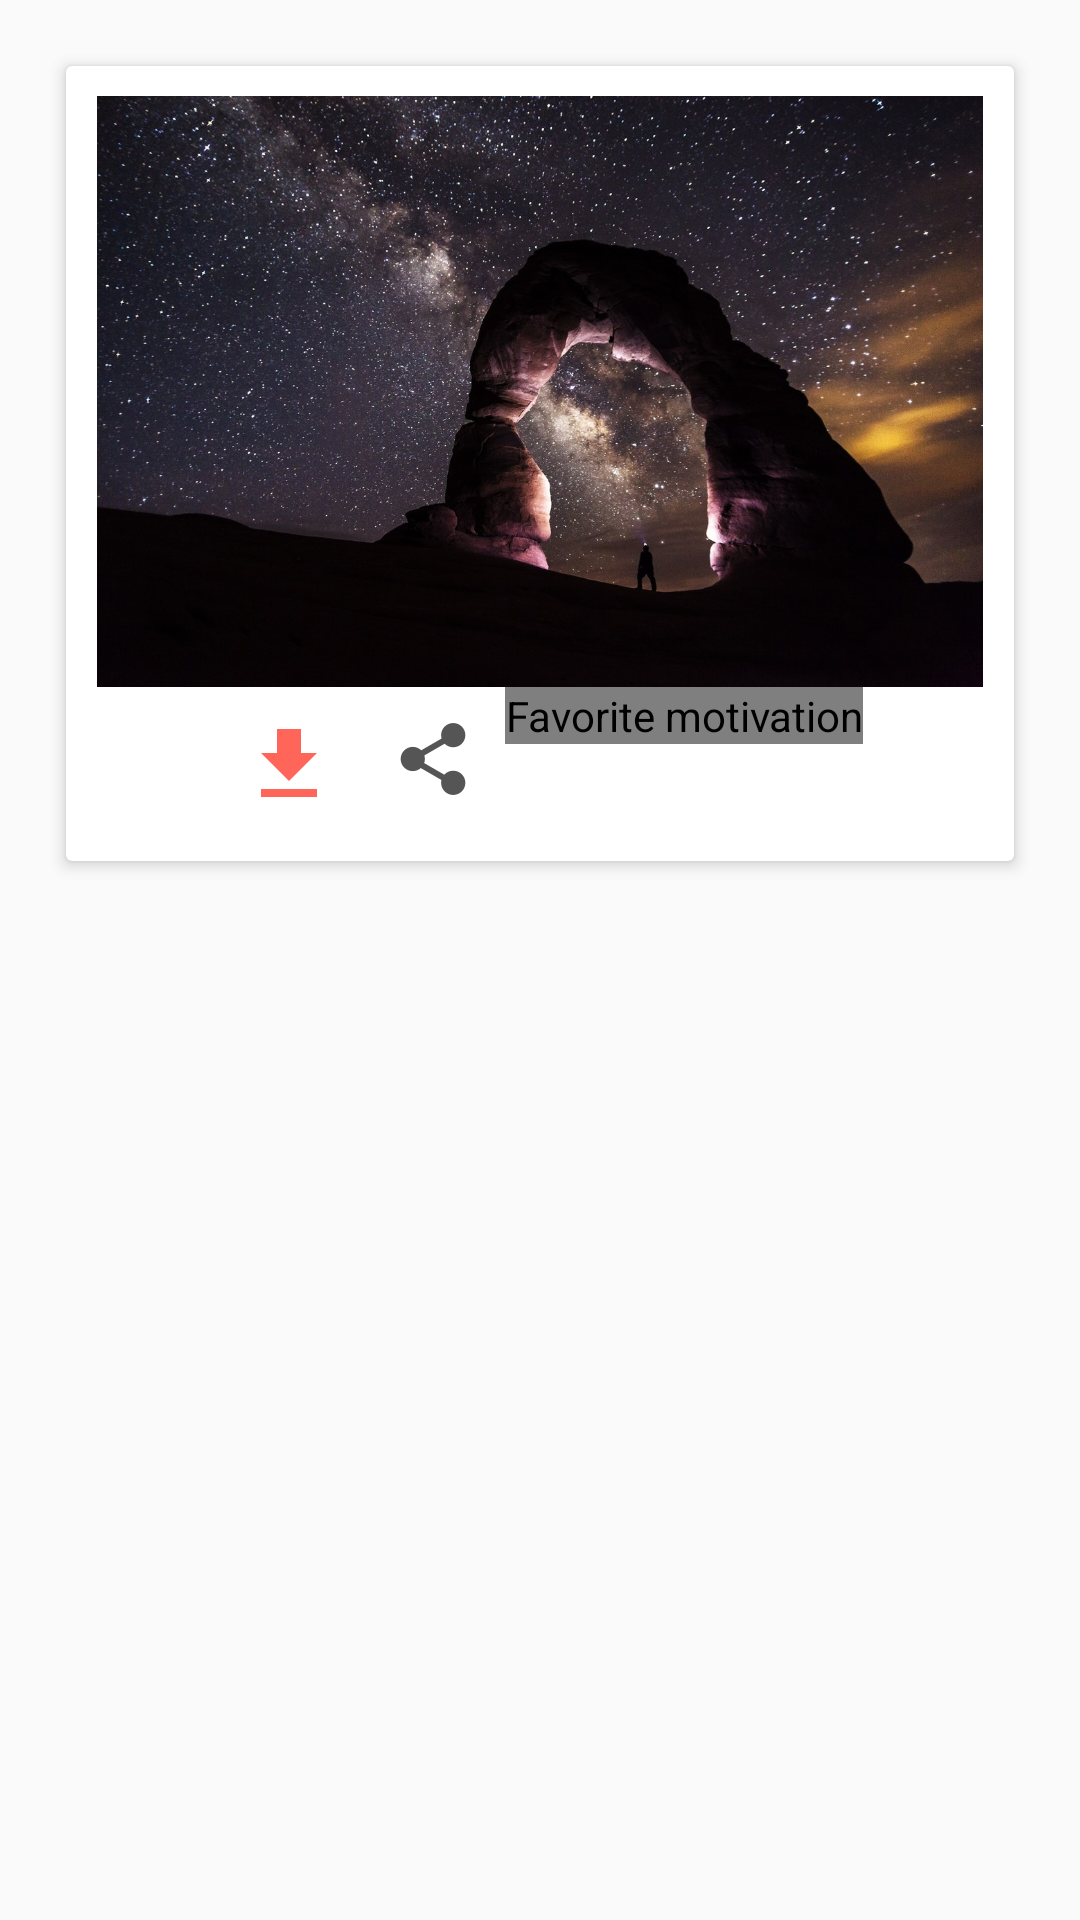

Screen size 1080 × 1920. Icon name, then its box in pixels as detection(x1, y1, x2, y2):
Download Image: detection(261, 729, 317, 797)
Share motivation: detection(400, 723, 466, 795)
